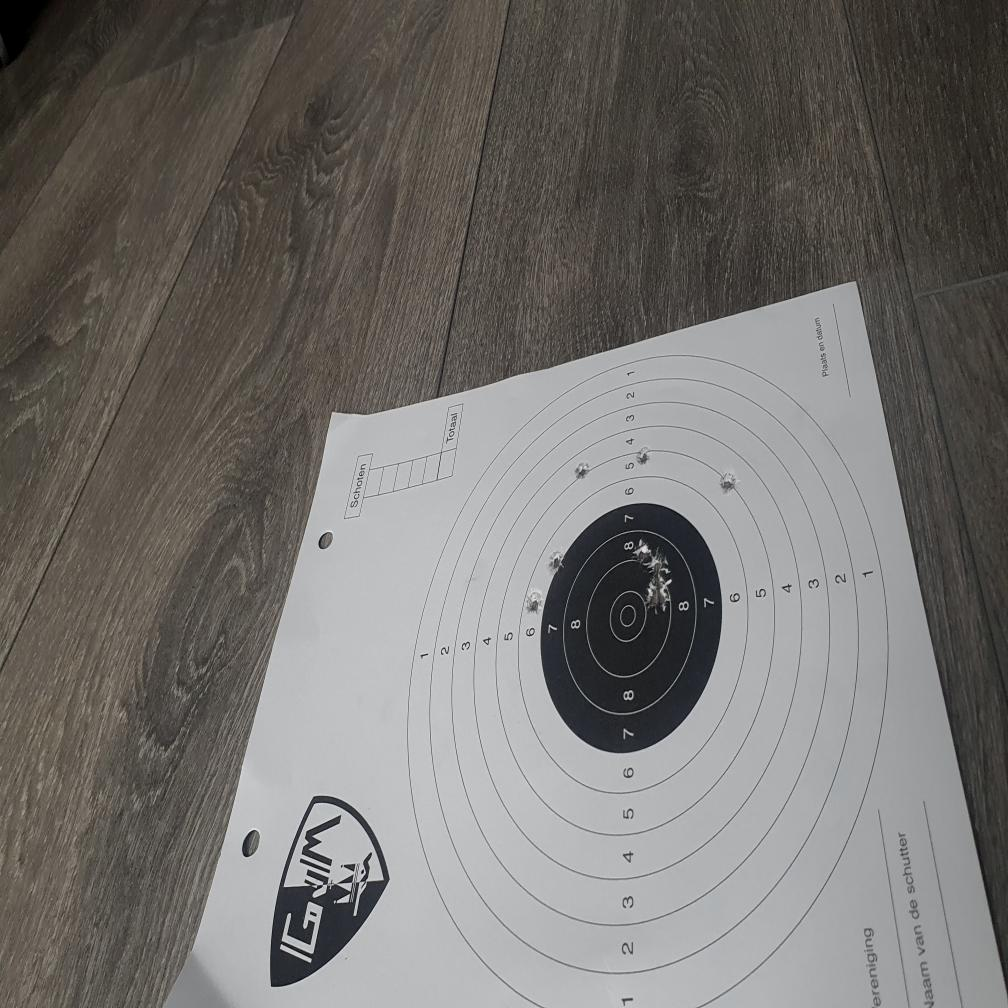5: (719, 466, 739, 499), (636, 444, 653, 469), (573, 458, 590, 482)
6: (524, 591, 543, 618)
7: (549, 549, 564, 575)
8: (635, 539, 648, 566)
9: (650, 551, 664, 577), (659, 582, 670, 615), (646, 583, 657, 614)
Target: (409, 351, 890, 1006)
black_contour: (542, 503, 722, 758)
